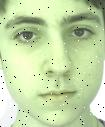without_mask: (1, 1, 105, 127)
